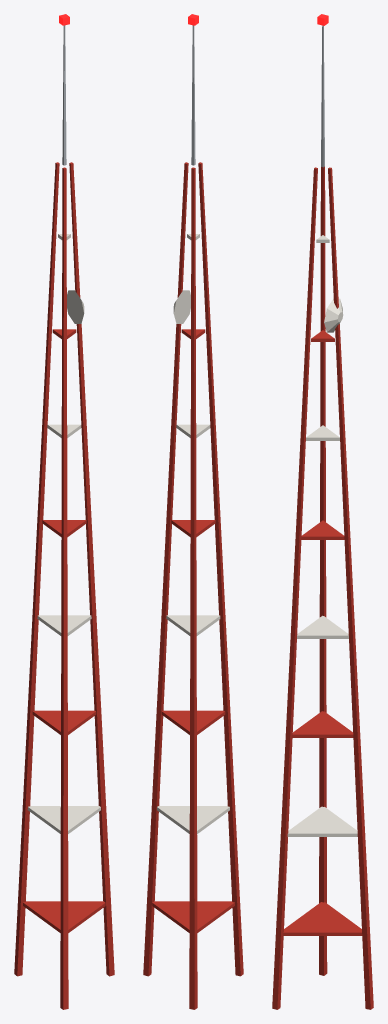
File: radio_tower.glb
The picture shows the model from 3 angles, left to right: view 1: azimuth 30°, elevation 25°; view 2: azimuth 150°, elevation 25°; view 3: azimuth 330°, elevation 25°; orthographic projection.
Parts seen in each view (by area): view 1: radio_tower; view 2: radio_tower; view 3: radio_tower.
Part boxes in pixels (bbox=[...]): radio_tower: bbox=[14, 14, 114, 1009]; radio_tower: bbox=[143, 14, 243, 1009]; radio_tower: bbox=[272, 14, 373, 1009].
Size of the model in its own units: 3.23 by 40.16 by 3.69.
